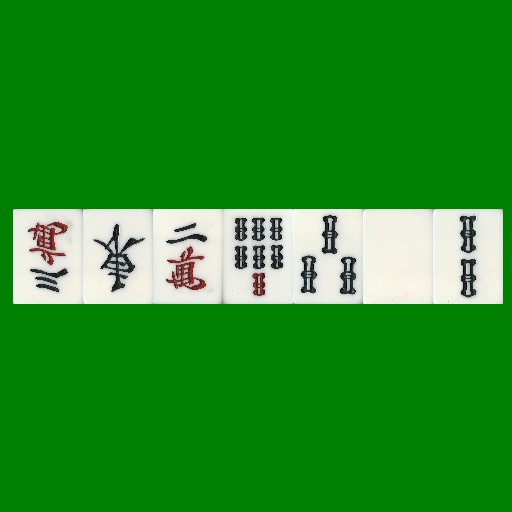2m: (153, 209, 223, 304)
2s: (433, 209, 503, 304)
3m: (13, 209, 83, 304)
3s: (293, 209, 363, 304)
7s: (223, 209, 293, 304)
east: (83, 209, 153, 304)
white: (363, 209, 433, 304)
